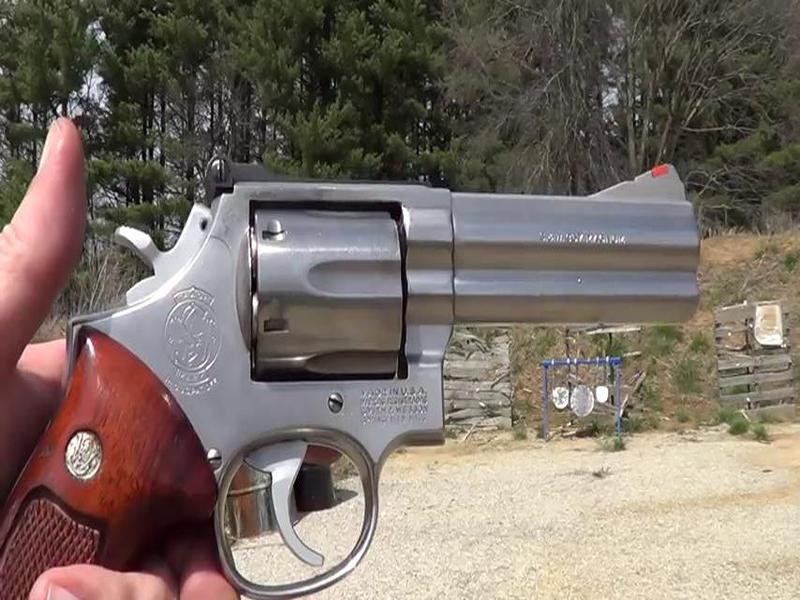Revolver: (54, 128, 713, 598)
